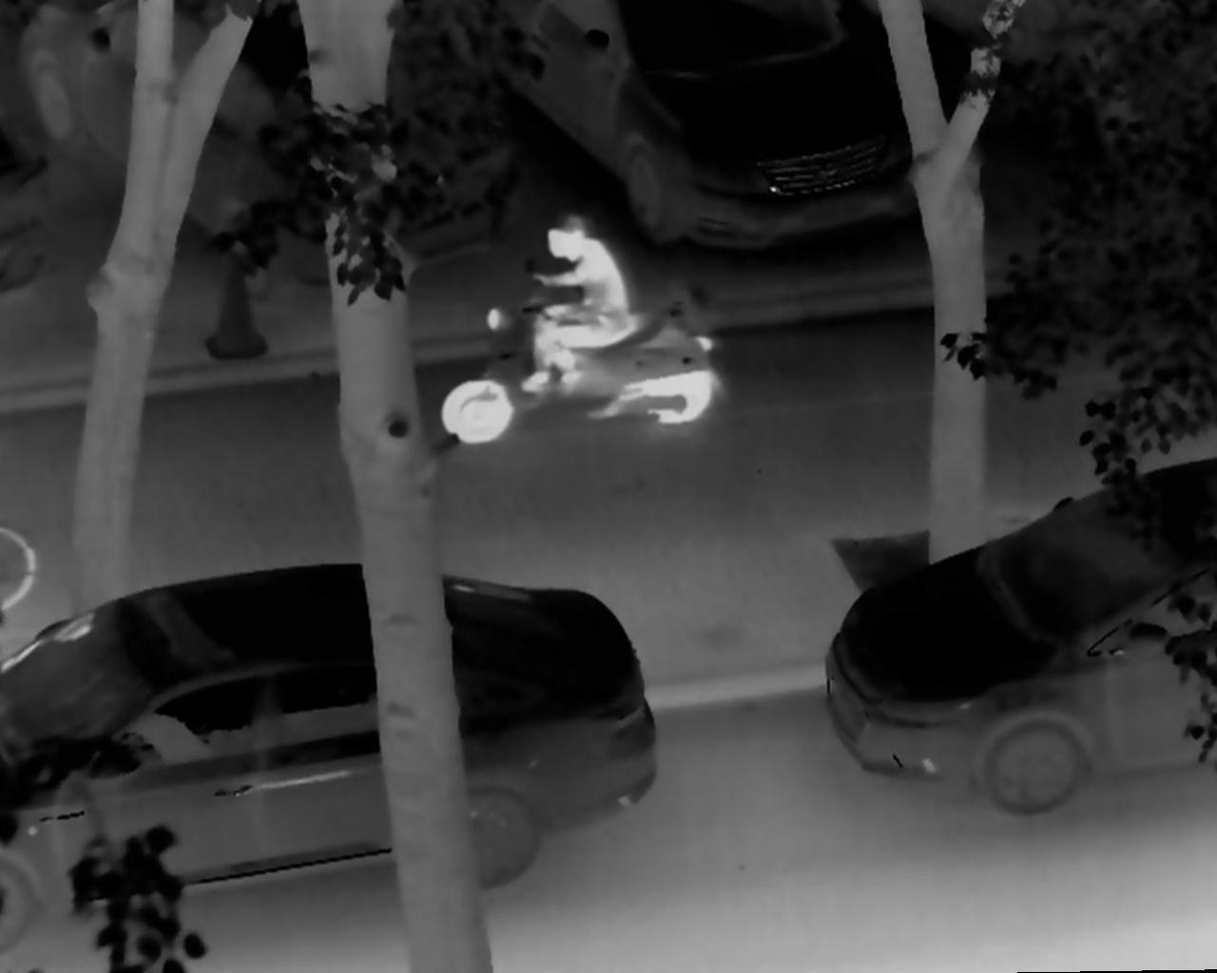person: (509, 211, 637, 407)
